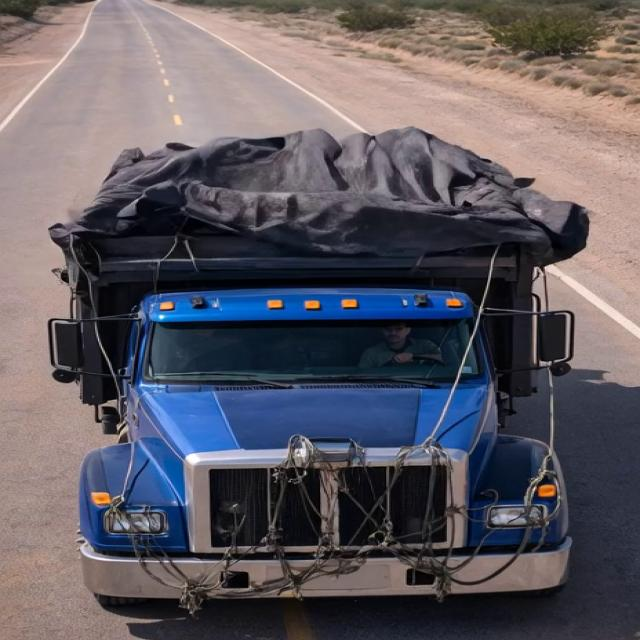trailer: (32, 125, 600, 270)
truck: (18, 74, 591, 604)
